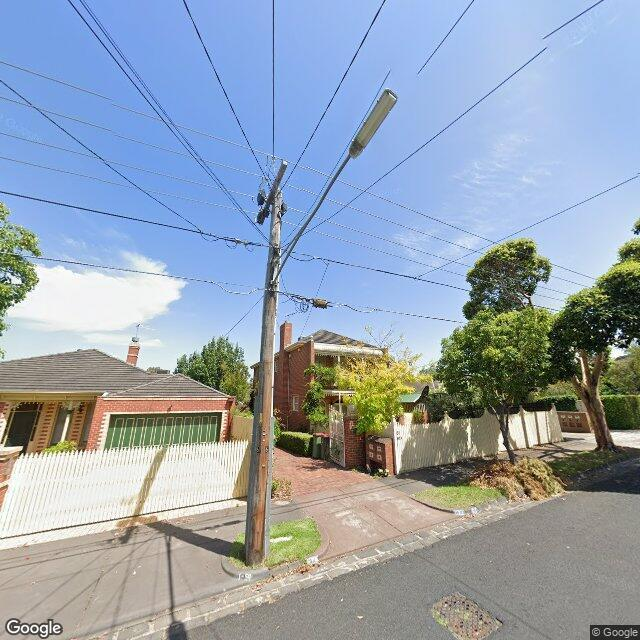crossarm: (258, 160, 288, 225)
streetlight: (273, 88, 399, 285)
timber-pole: (244, 187, 284, 565)
